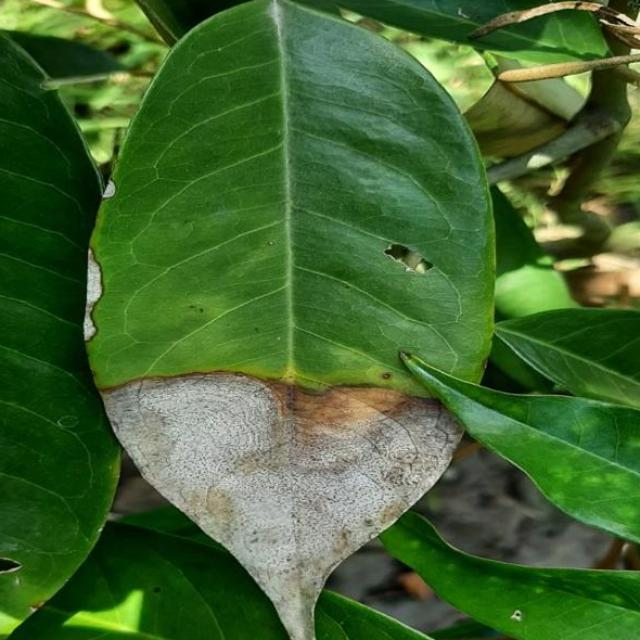Leaf Blight: (78, 0, 504, 640)
